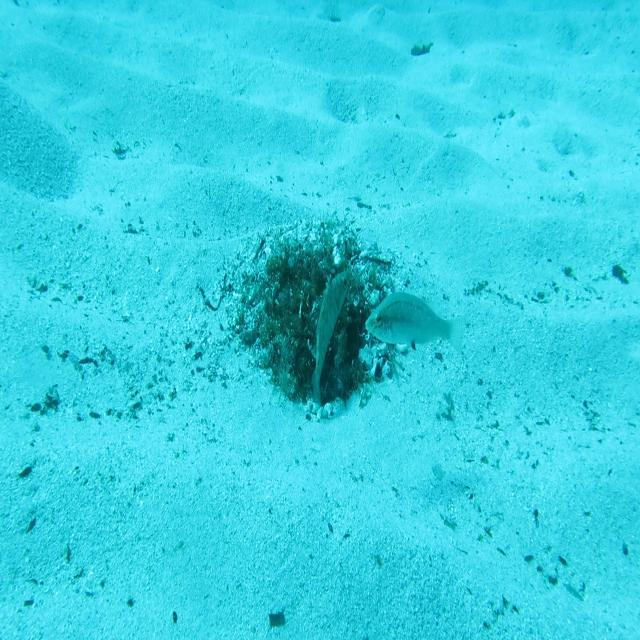FAN: (308, 265, 354, 412)
core_nest: (289, 263, 333, 288)
female: (364, 291, 468, 355)
nest: (218, 204, 416, 436)
vegetation: (409, 38, 435, 58), (611, 263, 630, 285), (267, 612, 287, 628)
